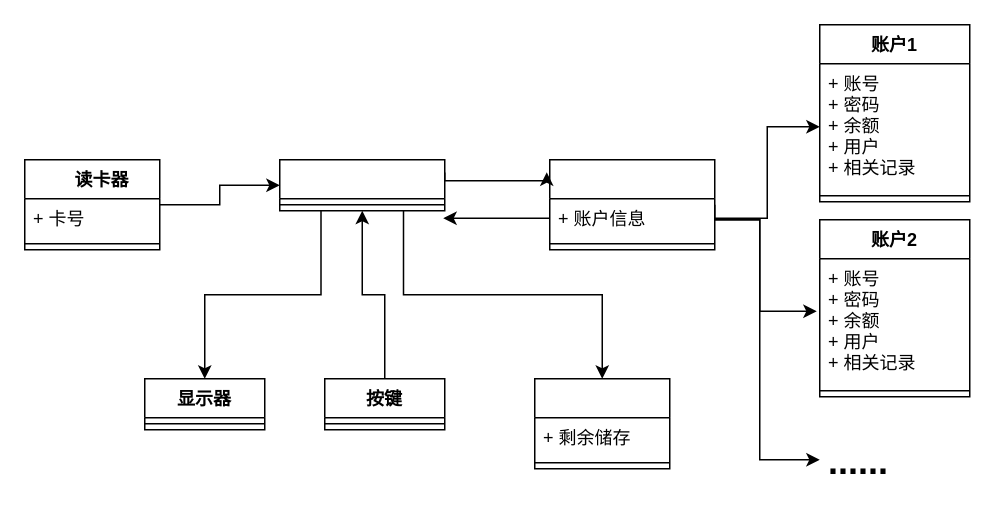
The diagram is 995 pixels wide and 506 high, and some of its shapes have lost their labels. Each missing label, with the box of its shape:
ATM管理系统: (278, 158, 445, 211)
点钞机: (533, 377, 670, 469)
账户管理系统: (548, 158, 715, 250)
